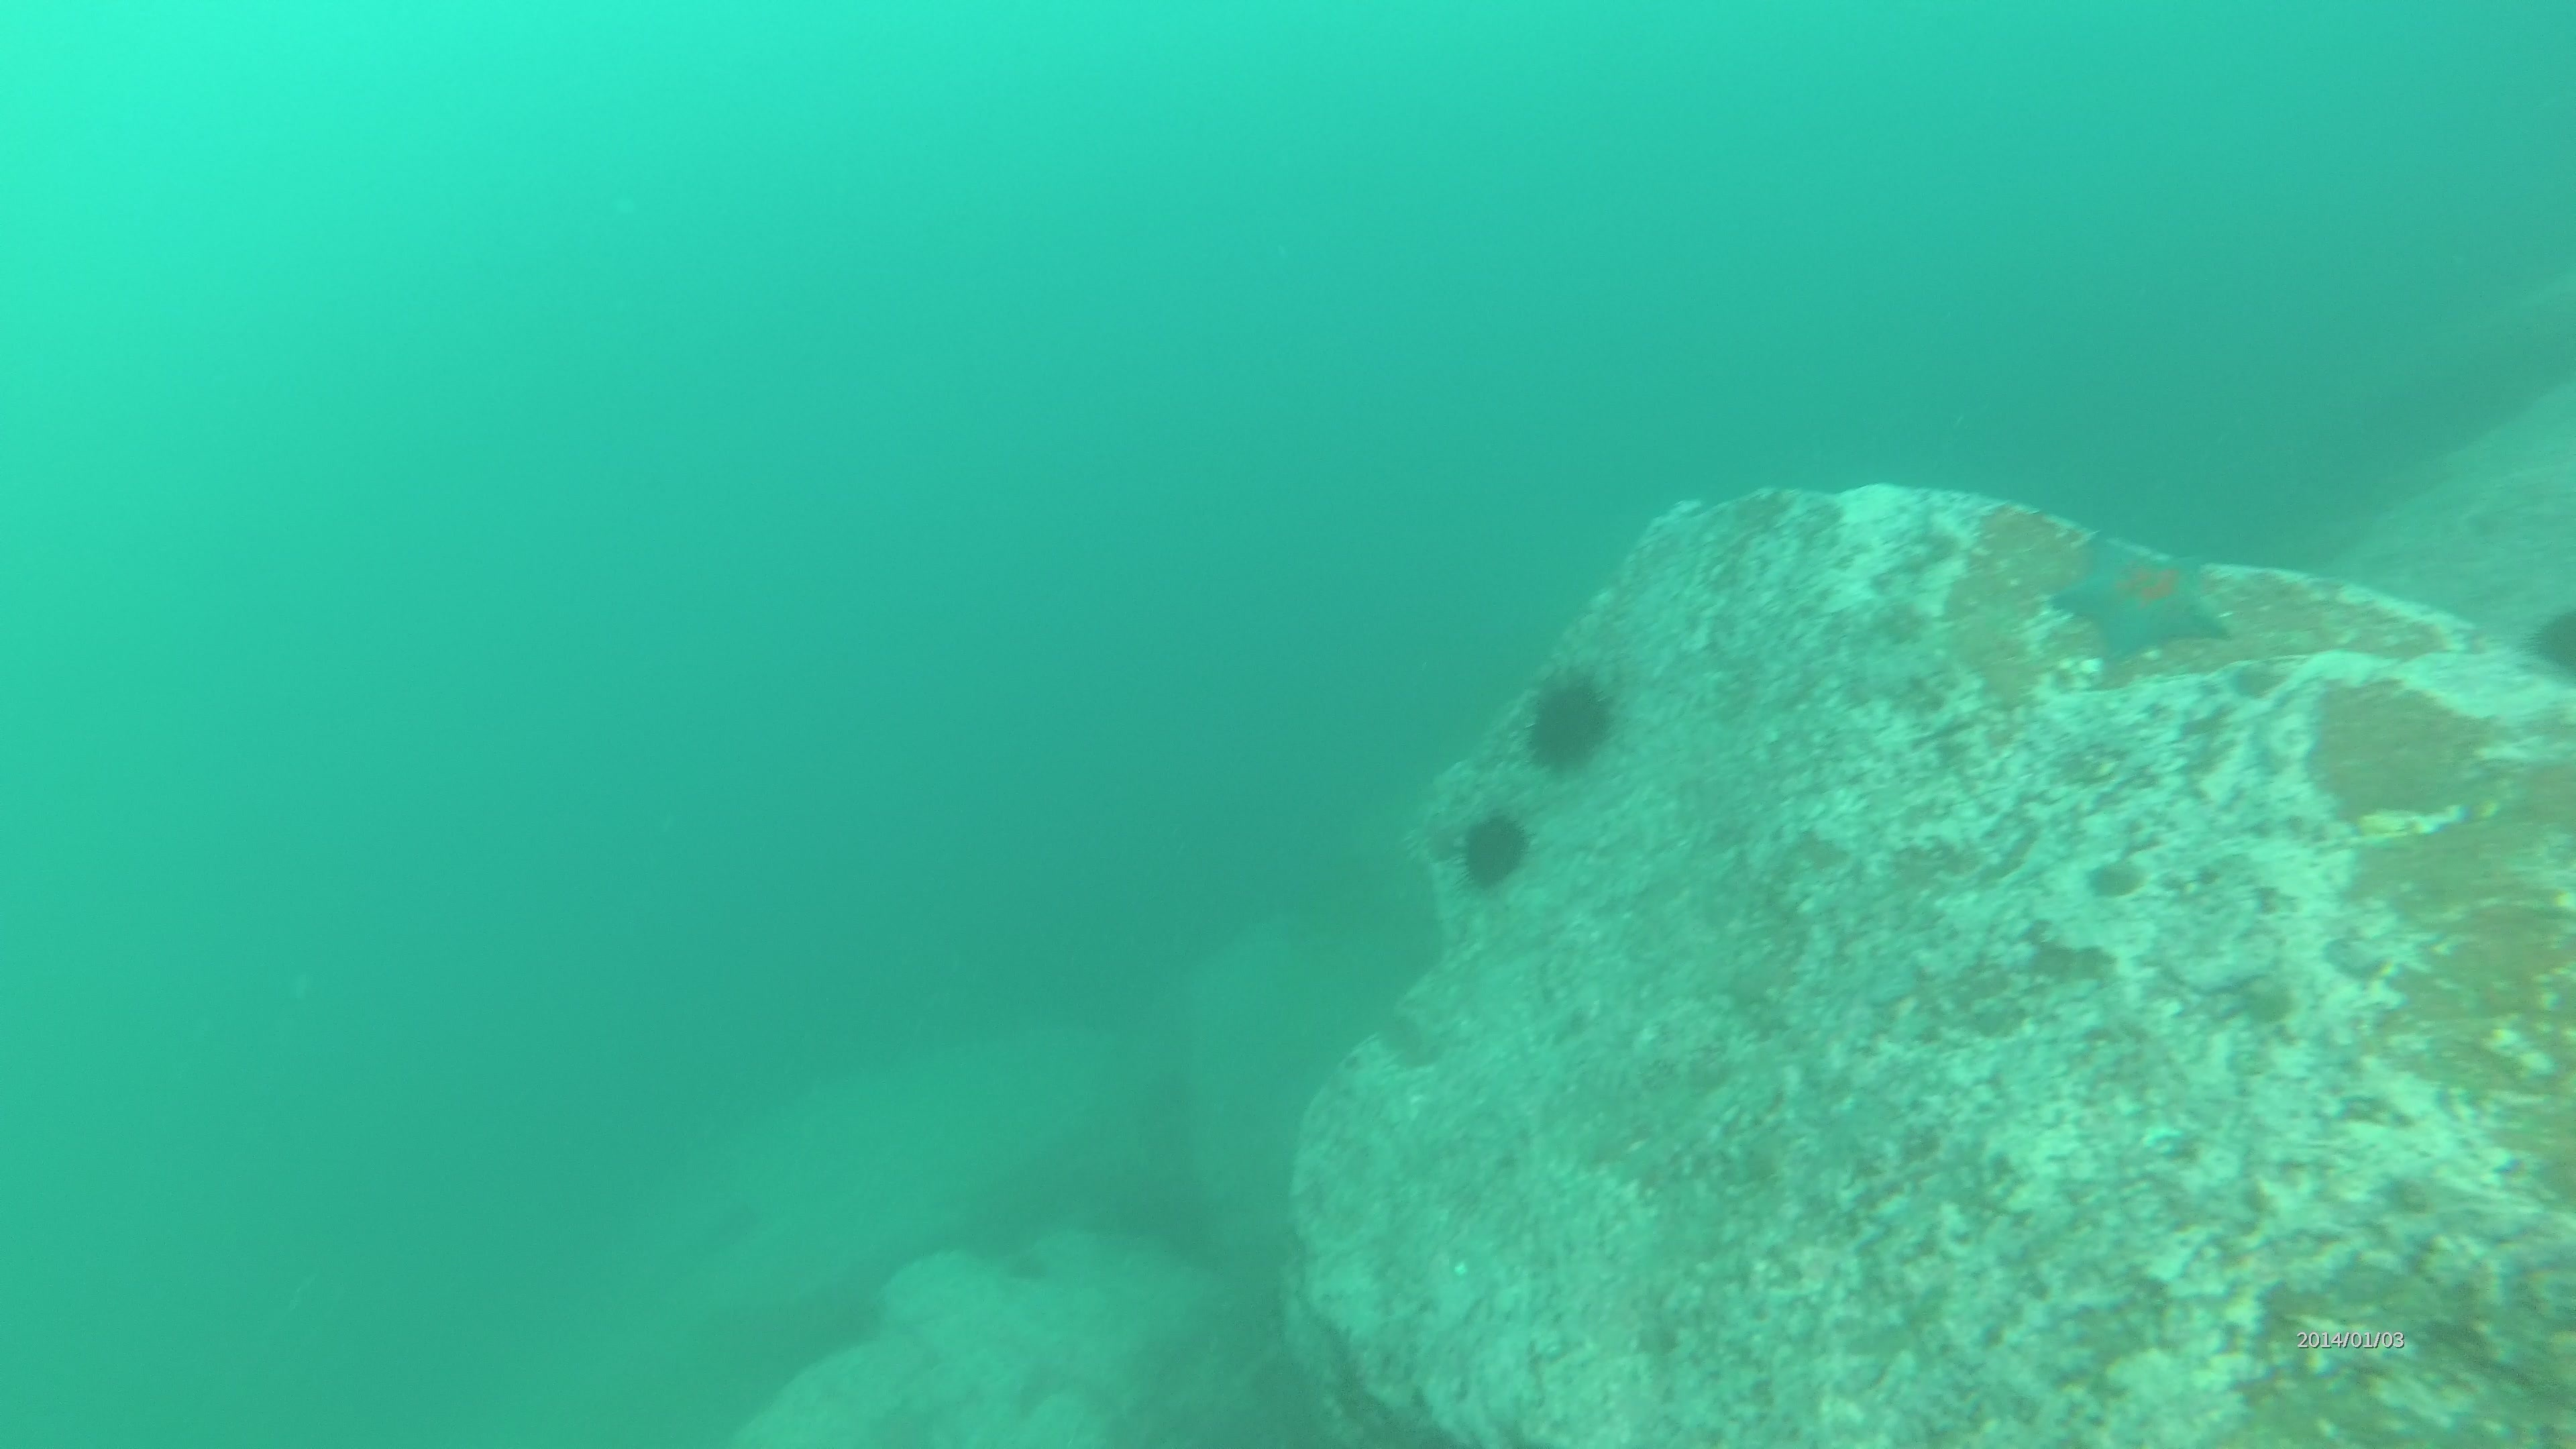echinus: (1516, 662, 1624, 777), (1449, 803, 1536, 893), (2519, 598, 2576, 686)
starfish: (2049, 529, 2233, 665)
